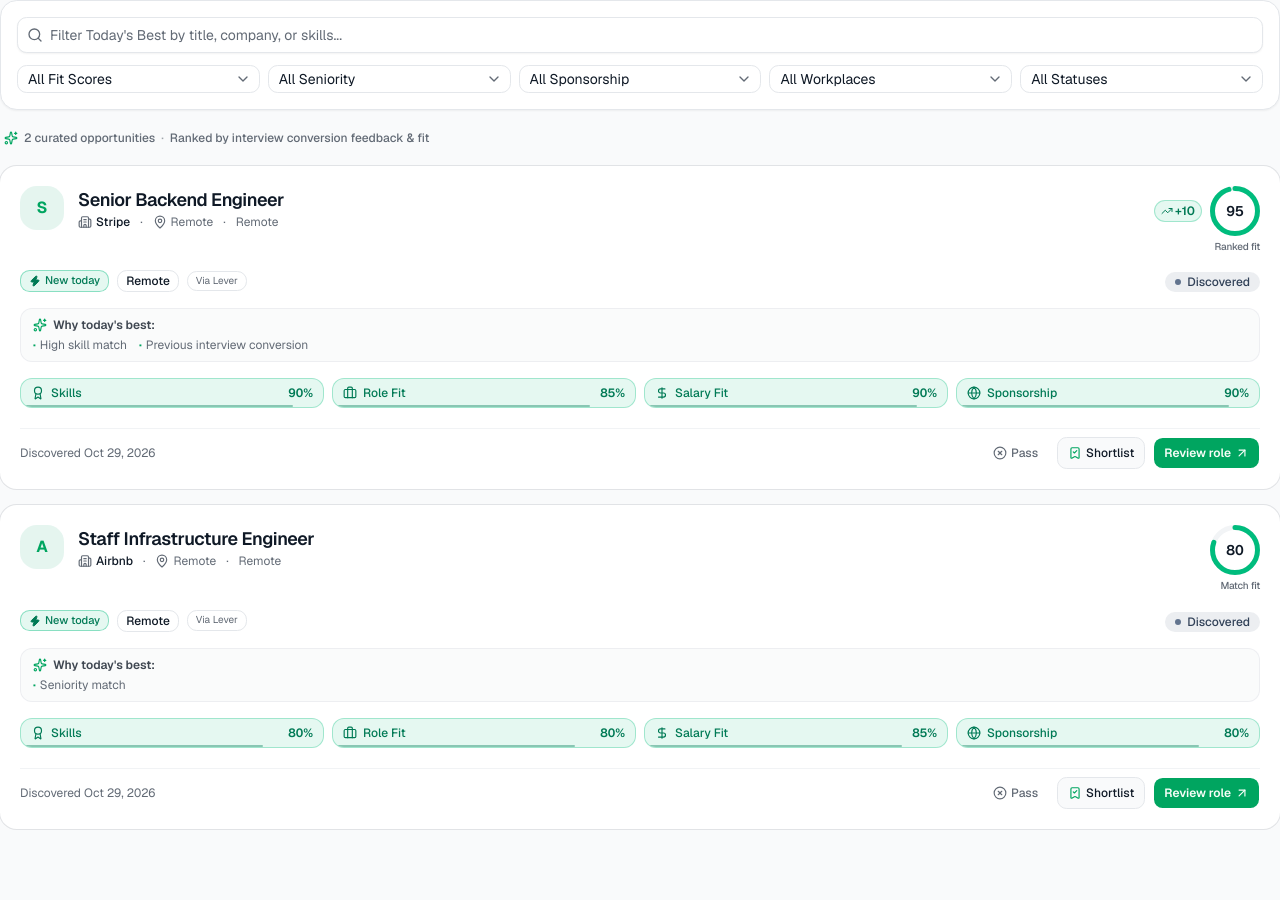
Scenario: removes a passed card and moves focus to the next one
Click the button "Pass" below "Ranked fit" at {"x": 1016, "y": 453}, box [982,437,1049,469]
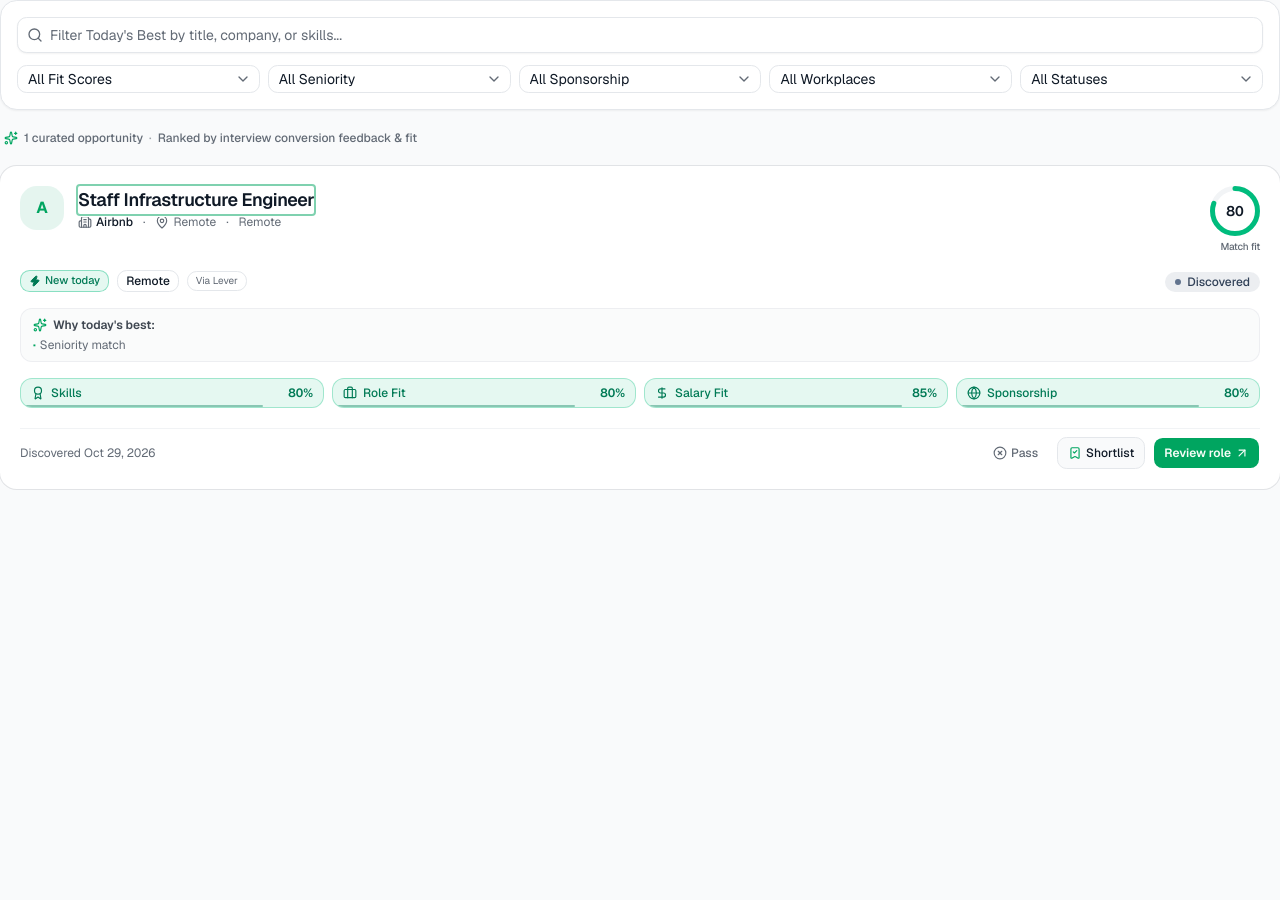
Expected: the link "Senior Backend Engineer" is gone
Expected: the text "1 curated opportunity" is shown, [24,130,143,146]
